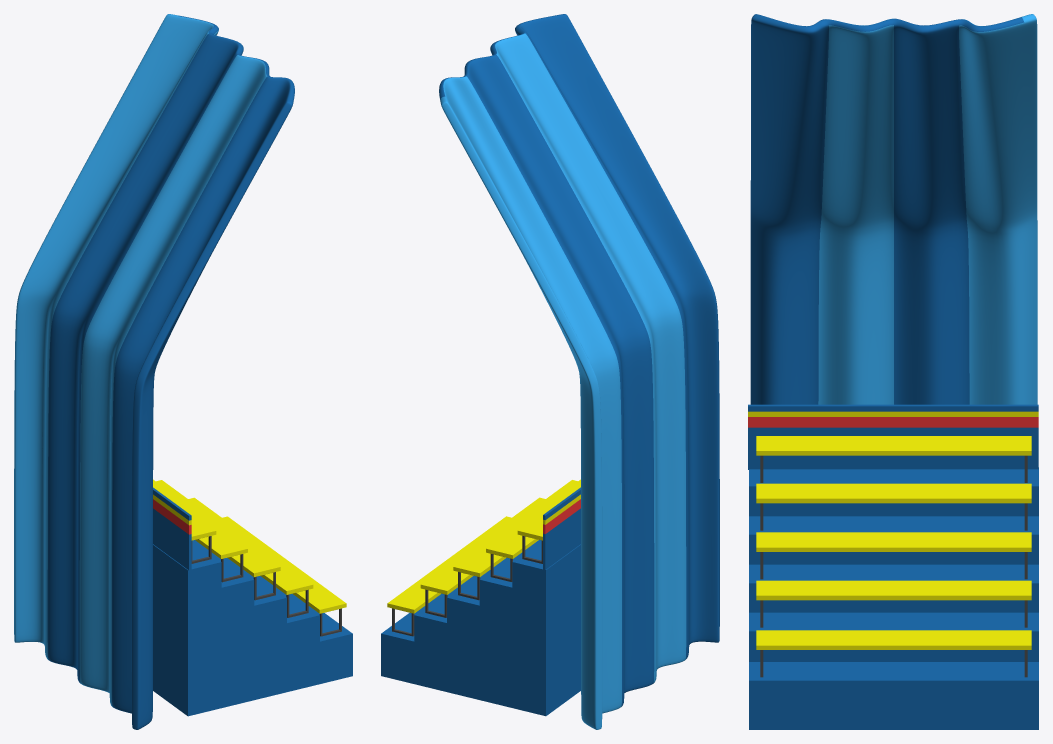
The model's file is BGEnviromentCirco.fbx.
3 views of the same model, side by side, from view 1: azimuth 30°, elevation 25°; view 2: azimuth 150°, elevation 25°; view 3: azimuth 270°, elevation 25° (orthographic). The views are drawn at different scales.
Visible parts, largest first — view 1: Plane, Cube, Cube.007, Cube.002, Cube.003, Cube.001, Cube.004, Cube.005; view 2: Plane, Cube, Cube.007, Cube.002, Cube.003, Cube.001, Cube.004, Cube.005; view 3: Plane, Cube, Cube.007, Cube.002, Cube.004, Cube.001, Cube.003, Cube.005.
Boxes of the visible parts, box(x1,y1,x2,y2) form: Plane: box(14, 14, 294, 729); Cube: box(153, 540, 352, 716); Cube.007: box(153, 487, 191, 570); Cube.002: box(188, 497, 313, 617); Cube.003: box(156, 480, 280, 600); Cube.001: box(222, 516, 346, 636); Cube.004: box(153, 479, 247, 582); Cube.005: box(153, 484, 216, 563); Plane: box(439, 14, 719, 729); Cube: box(381, 540, 580, 716); Cube.007: box(543, 487, 580, 569); Cube.002: box(420, 497, 545, 617); Cube.003: box(453, 480, 577, 600); Cube.001: box(387, 516, 511, 636); Cube.004: box(486, 479, 580, 581); Cube.005: box(517, 484, 580, 563); Plane: box(750, 14, 1037, 404); Cube: box(749, 467, 1038, 729); Cube.007: box(748, 404, 1038, 469); Cube.002: box(756, 580, 1031, 627); Cube.004: box(756, 483, 1031, 530); Cube.001: box(756, 630, 1031, 677); Cube.003: box(756, 532, 1031, 579); Cube.005: box(756, 436, 1031, 482).
Size of the model in its own units: 2637 by 6868 by 2643.
2 materials, 2 textured.
